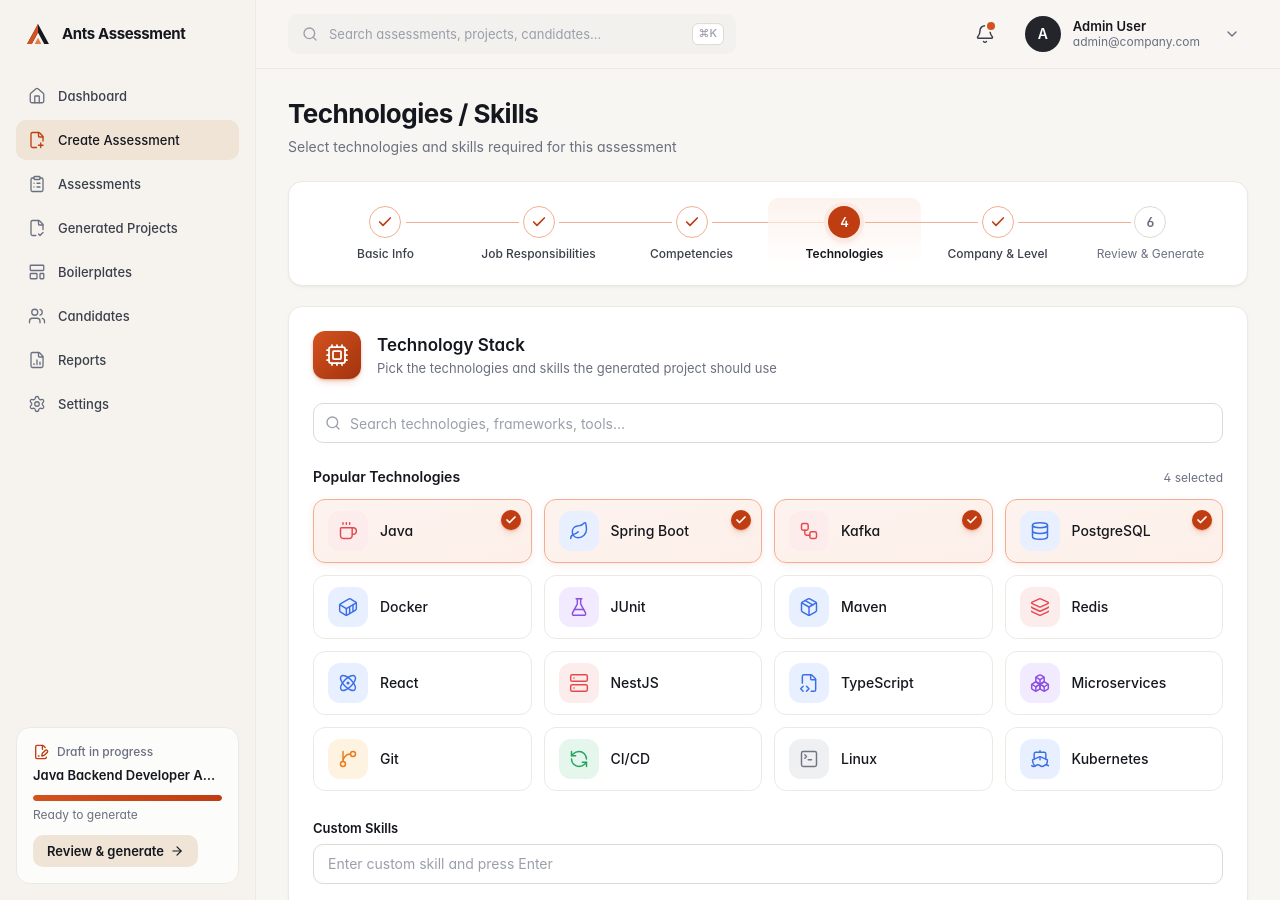
it: Technologies step › offers to add an unknown search term as a custom skill
Type "Fortran" into the search field labelled "Search technologies". click: (768, 423)
box: [313,403,1223,443]
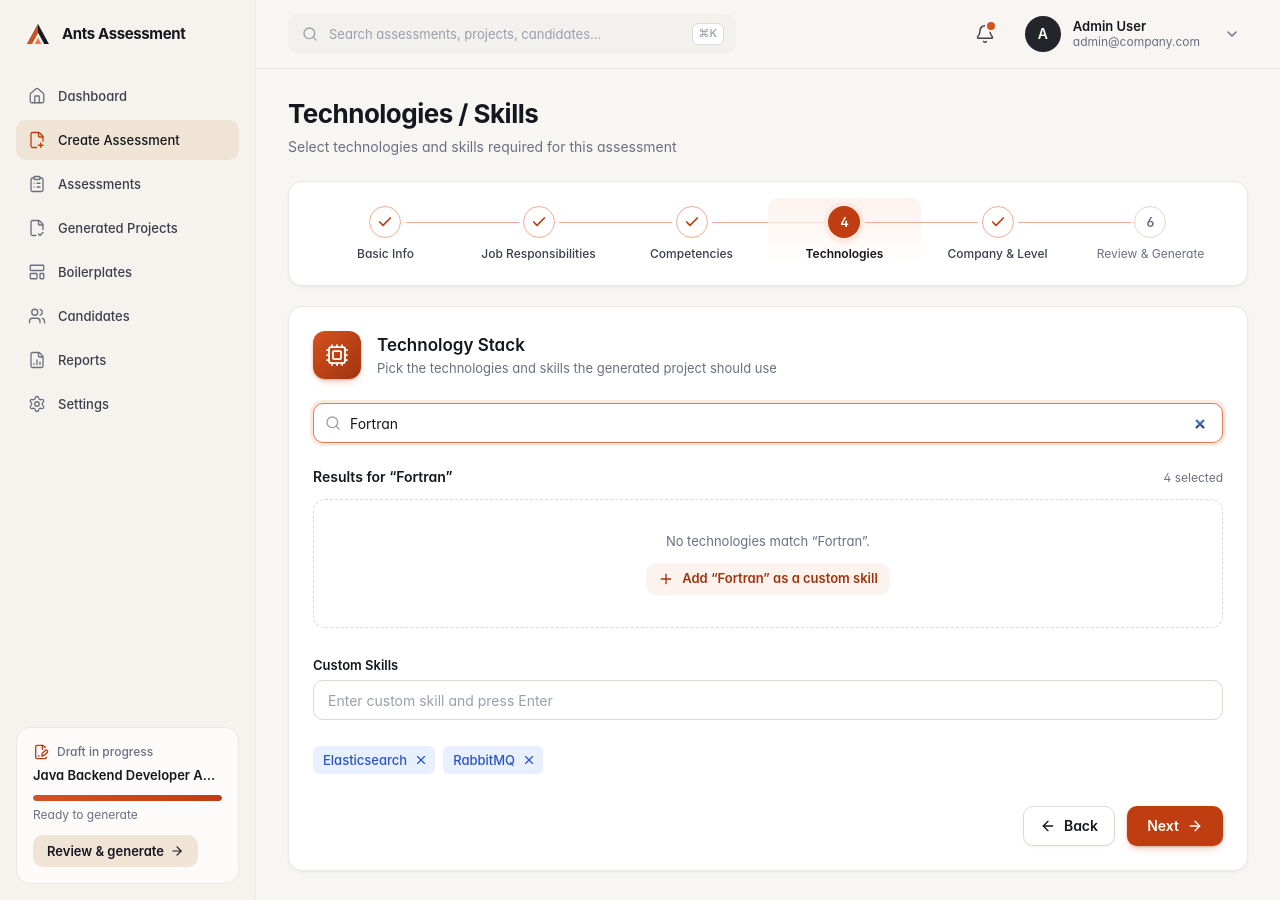
Now the text "No technologies match “Fortran”." is shown, box [666,532,870,551]
Click the button "Add “Fortran” as a custom skill". click: (768, 579)
box: [646,563,890,595]
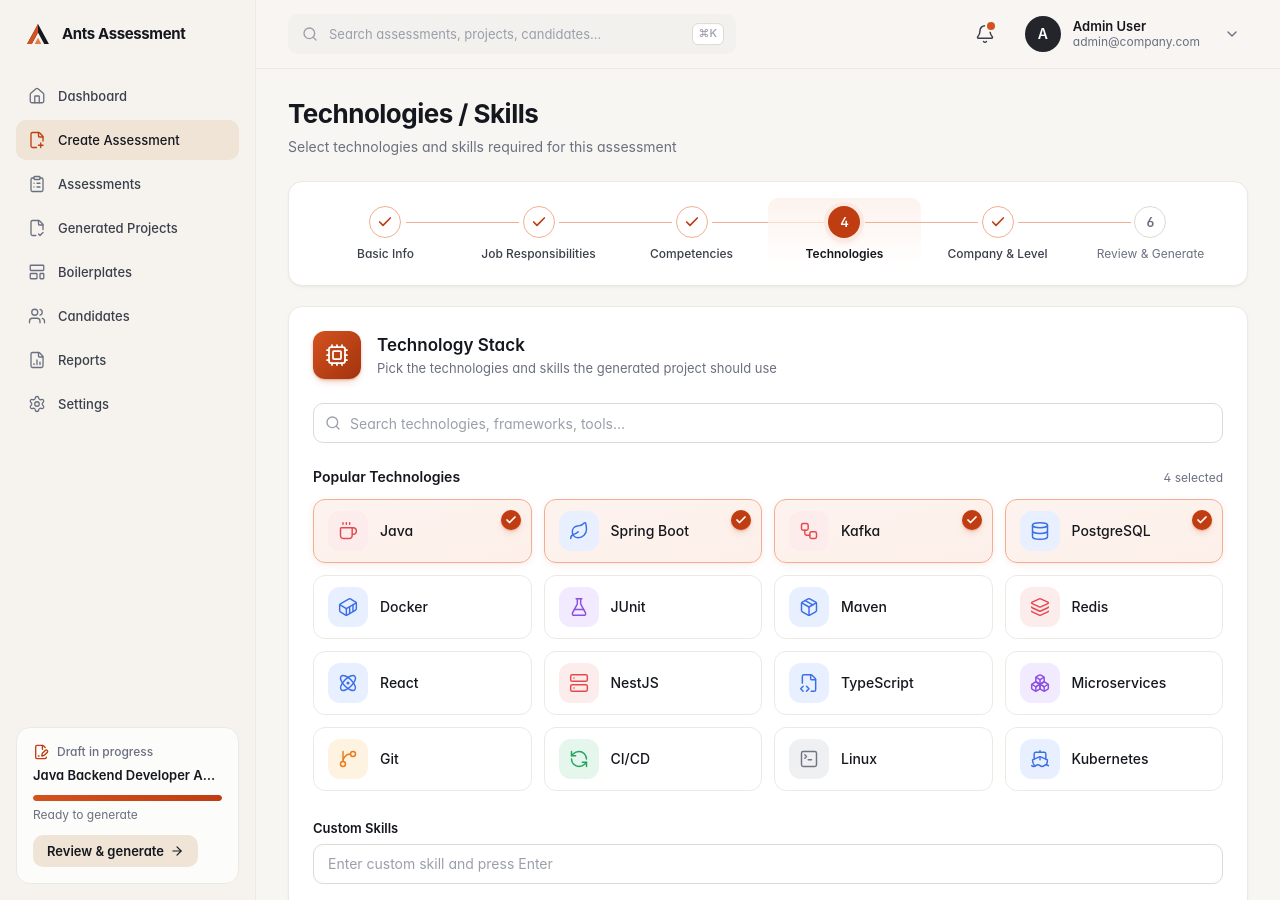
Now the heading "Popular Technologies" is shown, box [313,467,460,487]
